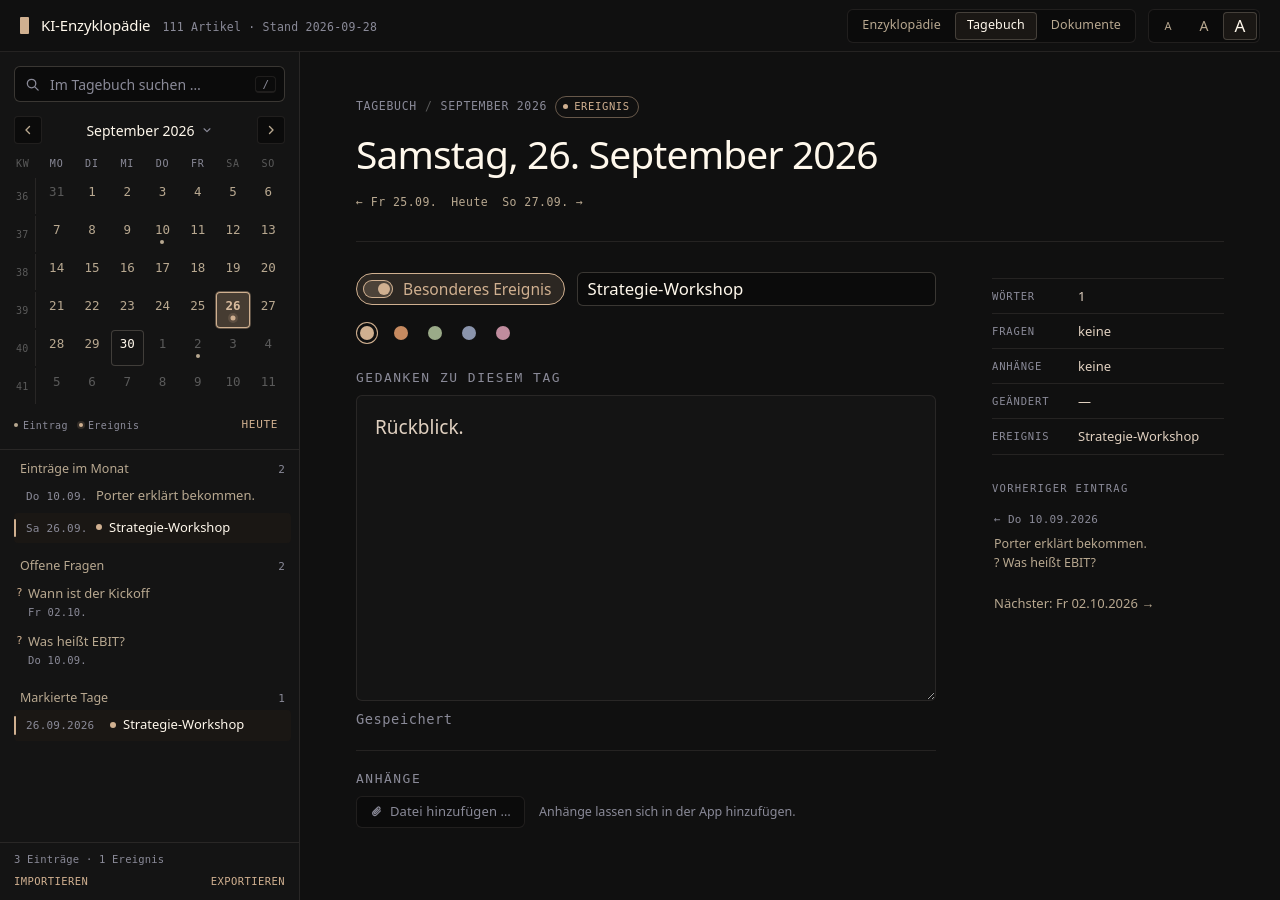
Test: Tagebuch › durchsucht das Tagebuch: Trefferliste mit Hervorhebung, Treffertage im Kalender
Expected: the element "Einträge im Monat" is shown, [14,460,291,543]
Step 1. Type "porter" into the search field named "Im Tagebuch suchen" → (148, 84), box [48,67,247,101]
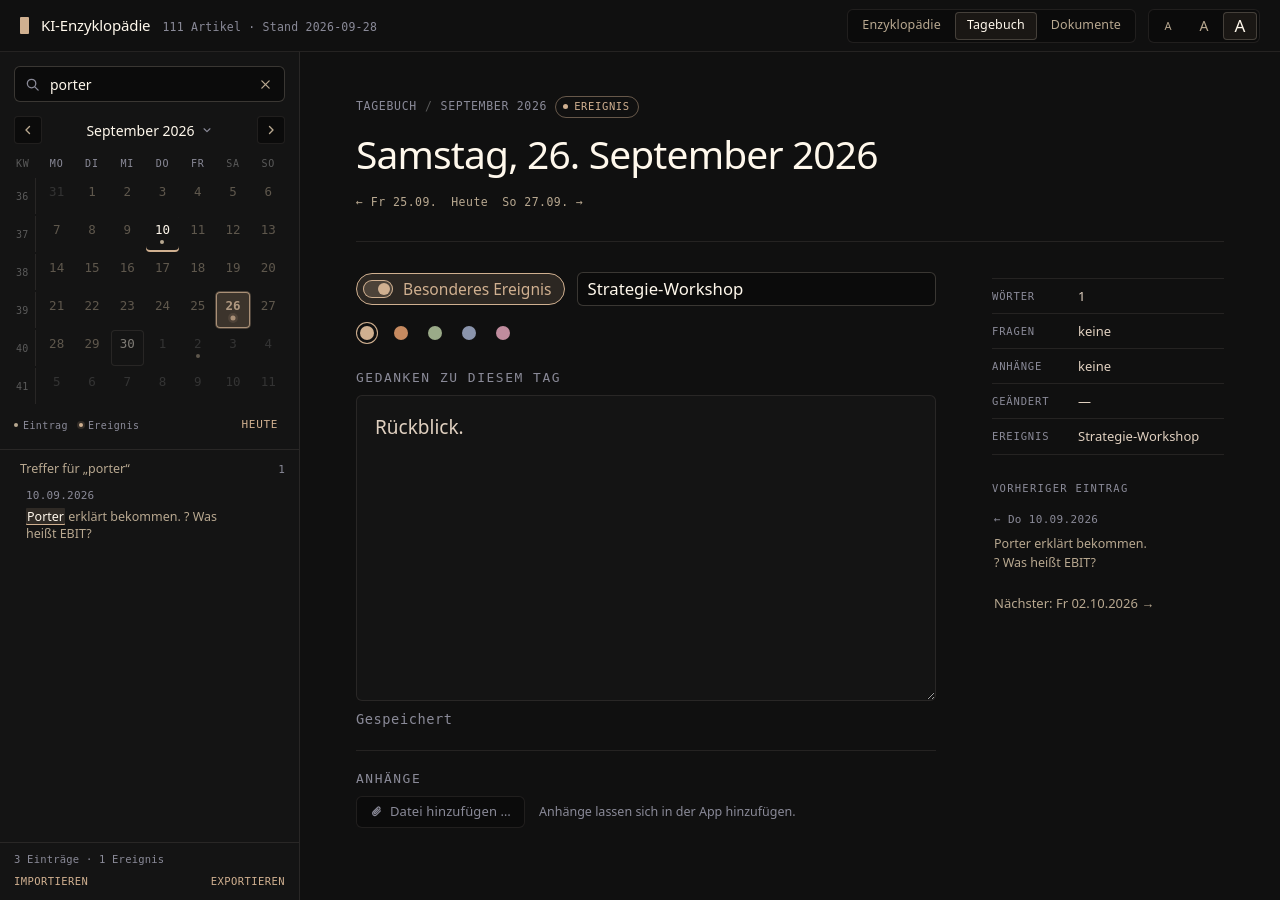
Expected: the text "Porter" is shown, [26,508,65,525]
// Ereignis-Bezeichnung zählt auch.
Step 2. Replace the text in the search field named "Im Tagebuch suchen" with "workshop" → (147, 84), box [48,67,246,101]
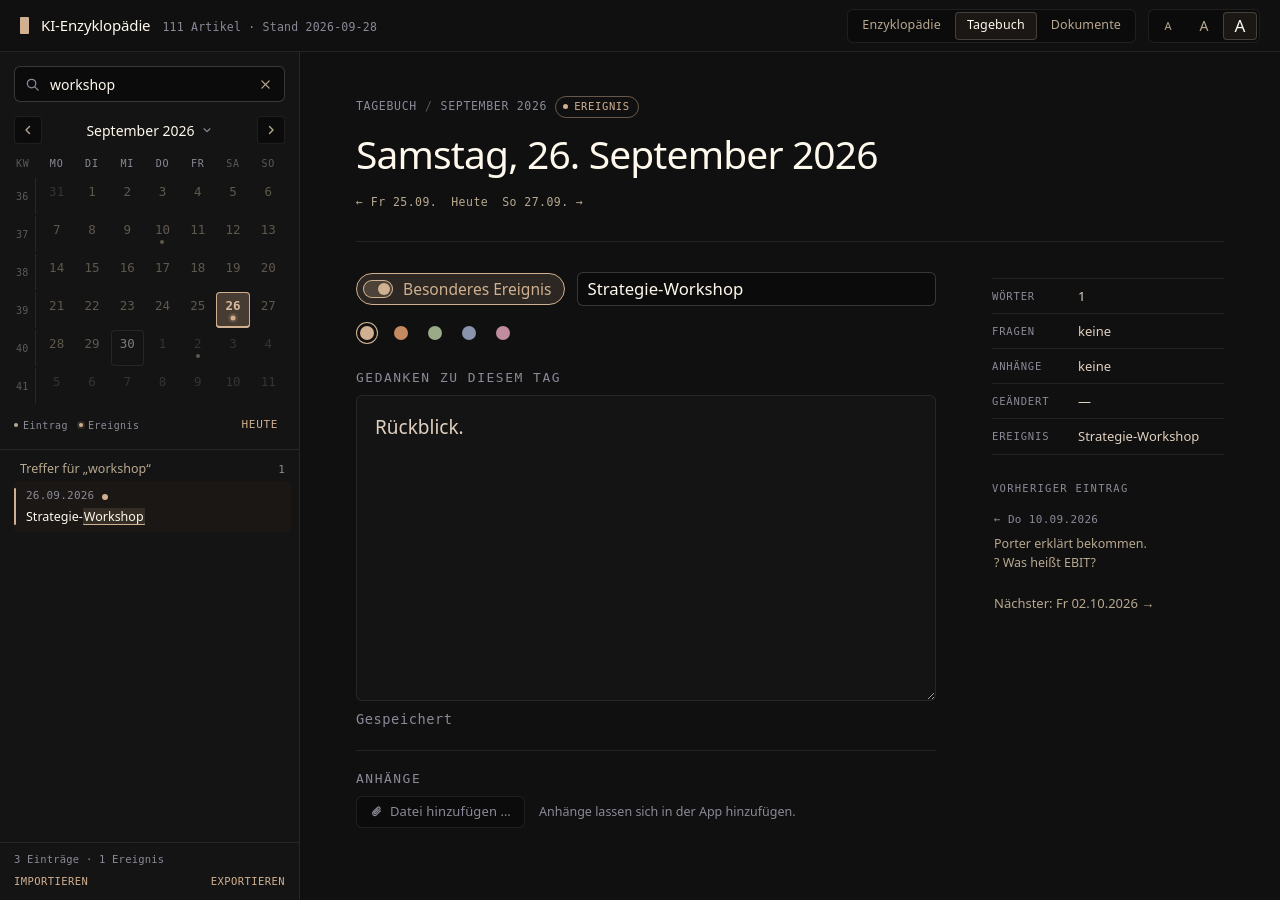
Expected: the link "26.09.2026 Strategie-Workshop" has attribute href="#/tagebuch/2026-09-26", [14,481,291,532]
Step 3. Press Escape in the search field named "Im Tagebuch suchen", box [48,67,246,101]
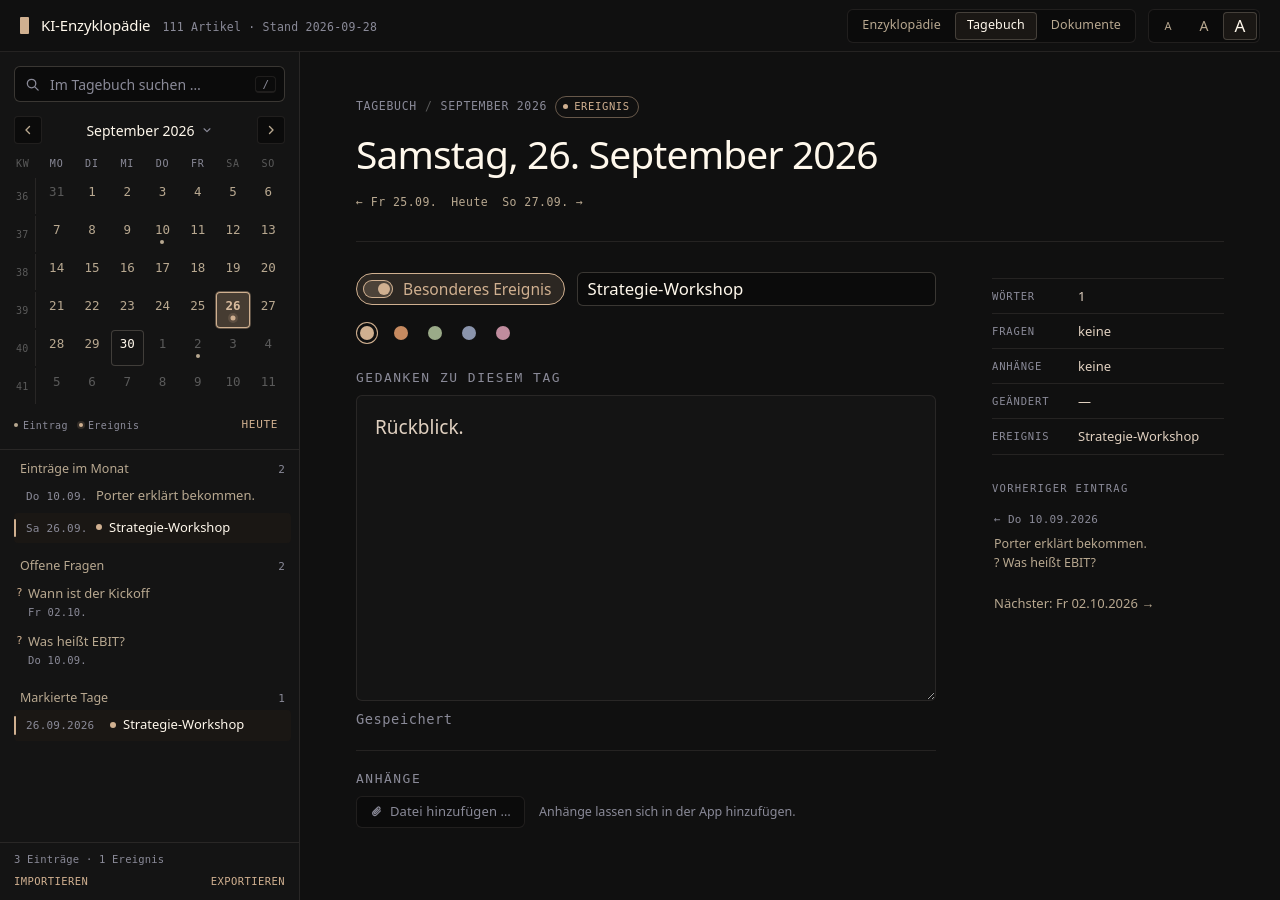
Expected: the navigation bar "Einträge" is shown, [0,450,299,842]
